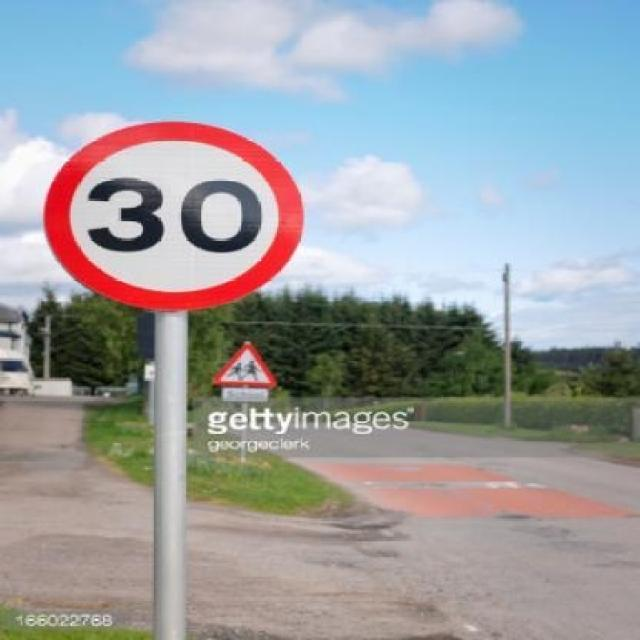forb_speed_over_30: (43, 119, 303, 312)
